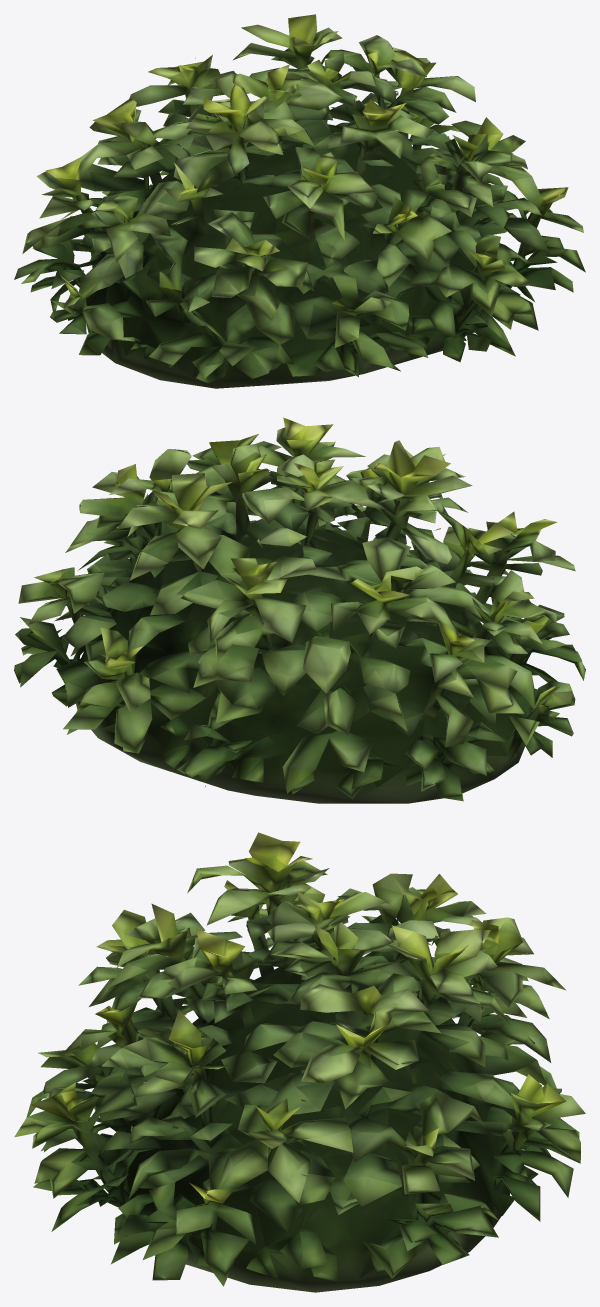
The model's file is exterior_foliage.glb.
3 renders of one model, top to bottom at view 1: azimuth 30°, elevation 25°; view 2: azimuth 150°, elevation 25°; view 3: azimuth 270°, elevation 25°, orthographic. The views are drawn at different scales.
Parts seen in each view (by area): view 1: exterior_foliage; view 2: exterior_foliage; view 3: exterior_foliage.
Boxes of the visible parts, x1,y1,x2,y2 form: exterior_foliage: (14,14,585,388); exterior_foliage: (14,417,585,803); exterior_foliage: (14,832,585,1292).
Bounding box in the file's own units: 0.6019 × 0.3119 × 0.5334.
Materials: 2 (2 with a texture image).
